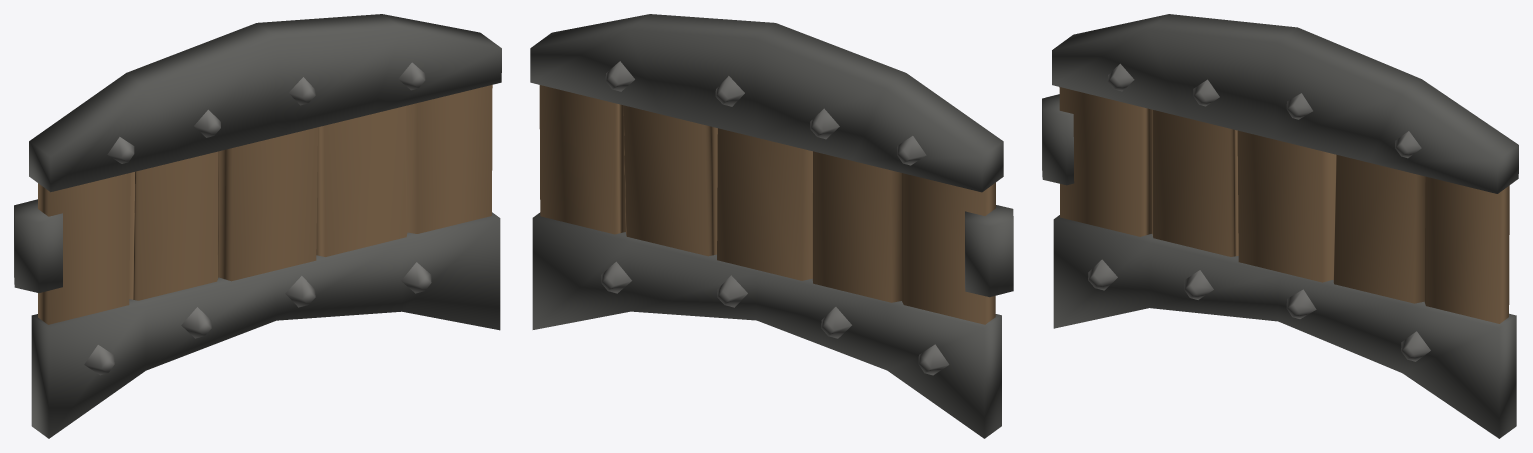
The model's file is rpgpp_ag_door_01_top.fbx.
3 renders of one model, left to right at view 1: azimuth 30°, elevation 25°; view 2: azimuth 150°, elevation 25°; view 3: azimuth 330°, elevation 25°, orthographic.
Visible parts, largest first — view 1: rpgpp_ag_door_01_top; view 2: rpgpp_ag_door_01_top; view 3: rpgpp_ag_door_01_top.
Boxes of the visible parts, <box> form: rpgpp_ag_door_01_top: <box>14,14,501,438</box>; rpgpp_ag_door_01_top: <box>530,14,1013,438</box>; rpgpp_ag_door_01_top: <box>1042,14,1518,438</box>.
Bounding box in the file's own units: 1.69 × 1.18 × 0.231.
